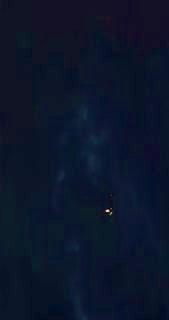Plane: (98, 202, 118, 222)
